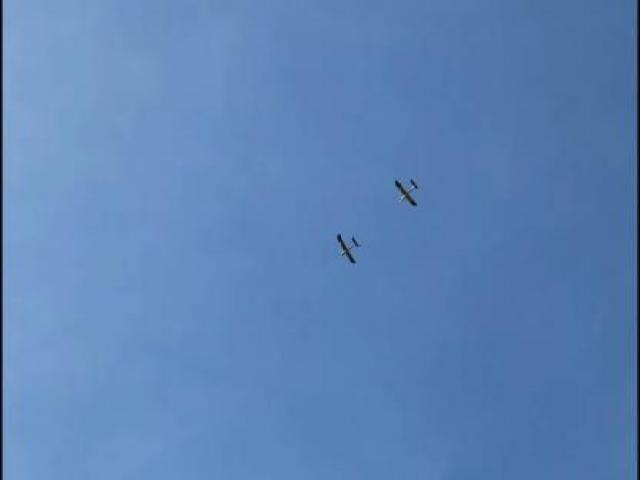uav: (335, 227, 359, 267), (393, 174, 421, 208)
